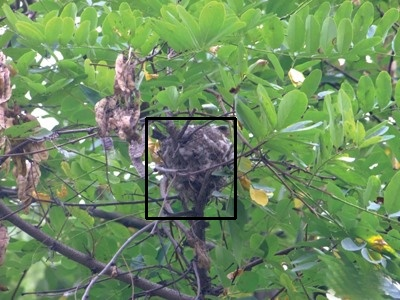bird-nest: (146, 118, 235, 218)
